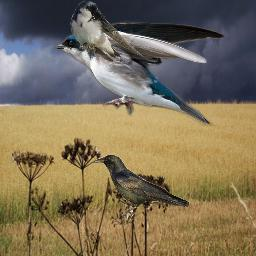Crow: (92, 154, 190, 220)
Swallow: (54, 20, 226, 126), (69, 0, 145, 63)
